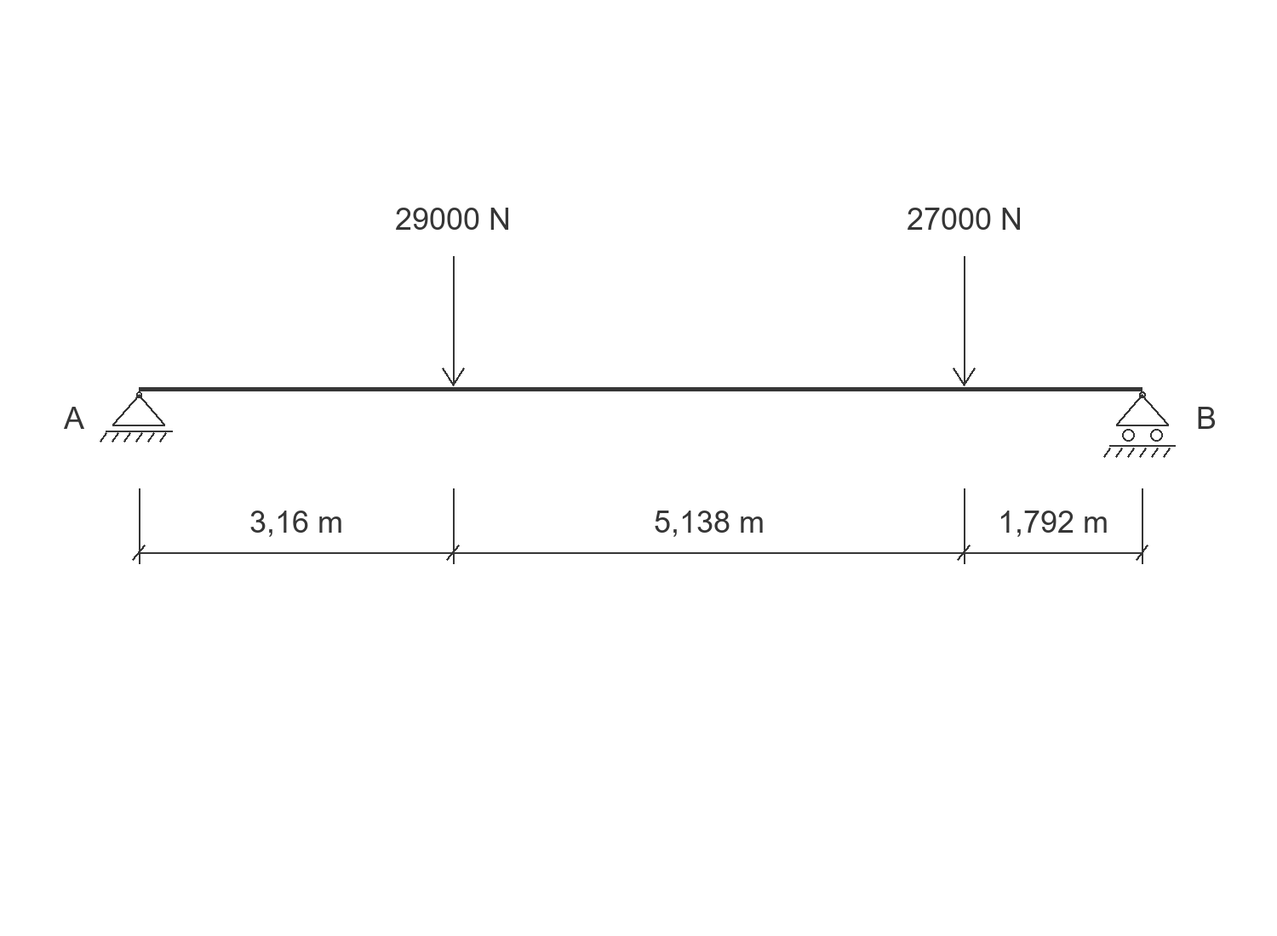pin_support: (100, 391, 173, 442)
point_load: (442, 256, 465, 386), (953, 256, 976, 386)
roller_support: (1103, 391, 1176, 458)
